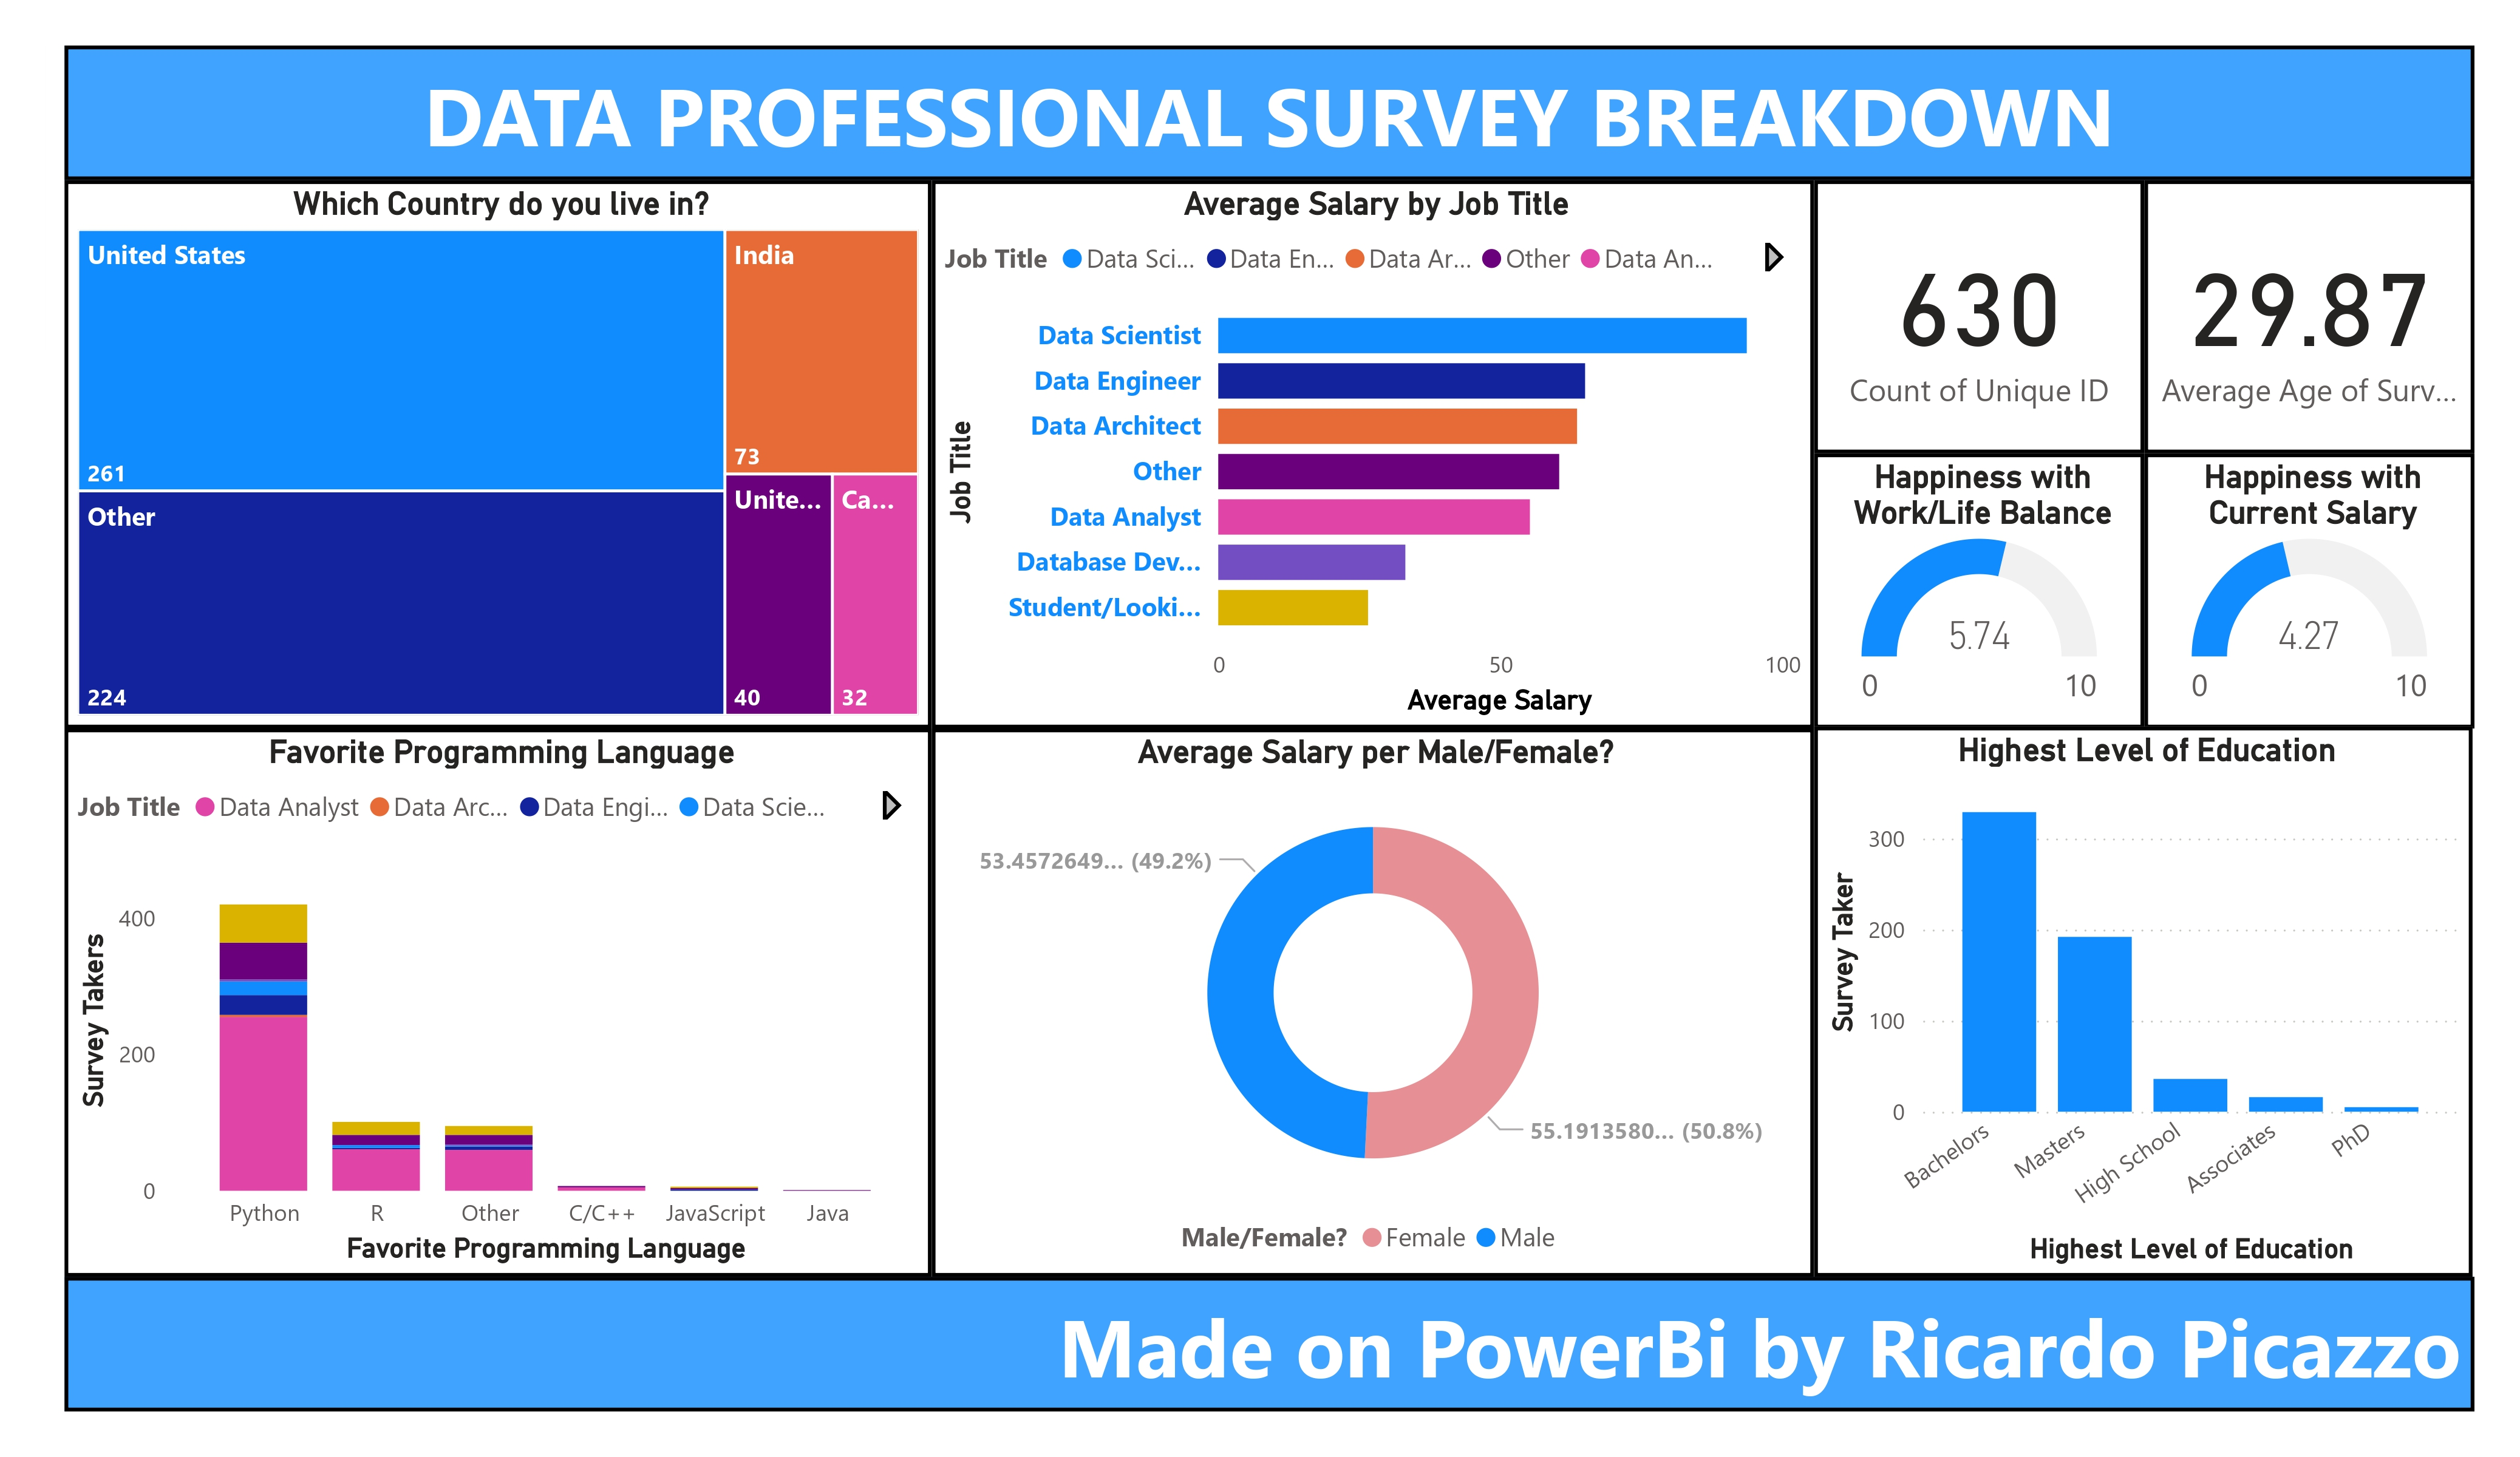

This screenshot's page, from the dashboard's own definition file:
{"tool":"powerbi","page":{"name":"DASHBOARD 1","canvas":[1280,720],"ordinal":0},"visuals":[{"type":"textbox","box":[9.7,0,1270.3,71],"z":0},{"type":"card","fields":{"Values":["Data Professional Survey.Unique ID"]},"box":[932.1,70.9,174.4,144.4],"z":1000},{"type":"card","fields":{"Values":["Data Professional Survey.Q10 - Current Age"]},"box":[1106.5,70.9,173.5,144.4],"z":2000},{"type":"barChart","title":"Average Salary by Job Title","fields":{"Category":["Data Professional Survey.Q1 - Which Title Best Fits your Current Role?.1"],"Y":["Data Professional Survey.Average Salary"],"Series":["Data Professional Survey.Q1 - Which Title Best Fits your Current Role?.1"]},"box":[466.9,70.9,465.1,288.9],"z":3000},{"type":"columnChart","title":"Favorite Programming Language","fields":{"Category":["Data Professional Survey.Q5 - Favorite Programming Language.1"],"Y":["Data Professional Survey.Unique ID"],"Series":["Data Professional Survey.Q1 - Which Title Best Fits your Current Role?.1"]},"box":[10,359.7,456.9,288.9],"z":4000},{"type":"treemap","title":"Which Country do you live in?","fields":{"Group":["Data Professional Survey.Q11 - Which Country do you live in?.1"],"Values":["Data Professional Survey.Q11 - Which Country do you live in?.1"]},"box":[10,70.9,456.9,288.9],"z":5000},{"type":"gauge","title":"Happiness with Work/Life Balance","fields":{"Y":["Data Professional Survey.Q6 - How Happy are you in your Current Position with the following? (Work/Life Balance)"],"MinValue":["Data Professional Survey.Q6 - How Happy are you in your Current Position with the following? (Work/Life Balance)"],"MaxValue":["Sum(Data Professional Survey.Q6 - How Happy are you in your Current Position with the following? (Work/Life Balance))1"]},"box":[932.1,215.3,174.4,144.4],"z":6000},{"type":"gauge","title":"Happiness with Current Salary","fields":{"Y":["Data Professional Survey.Q6 - How Happy are you in your Current Position with the following? (Salary)"],"MinValue":["Data Professional Survey.Q6 - How Happy are you in your Current Position with the following? (Salary)"],"MaxValue":["Sum(Data Professional Survey.Q6 - How Happy are you in your Current Position with the following? (Salary))1"]},"box":[1106.5,215.3,173.5,144.4],"z":7000},{"type":"donutChart","title":"Average Salary per Male/Female?","fields":{"Category":["Data Professional Survey.Q9 - Male/Female?"],"Y":["Data Professional Survey.Average Salary"]},"box":[466.9,359.7,465.1,288.9],"z":8000},{"type":"columnChart","title":"Highest Level of Education","fields":{"Category":["Data Professional Survey.Q12 - Highest Level of Education"],"Y":["Data Professional Survey.Unique ID"]},"box":[932.2,359.1,347.3,290.2],"z":9000},{"type":"textbox","box":[10,649,1270,71],"z":10000}]}

Visuals, with their boxes on the page's 1280x720 design canvas (x1, y1, x2, y2). These are canvas units, not pixel positions in the 2520x1457 screenshot, which may show the page scaled, cropped or inside an application window:
textbox: detection(10, 0, 1280, 71)
card - Data Professional Survey.Unique ID: detection(932, 71, 1106, 215)
card - Data Professional Survey.Q10 - Current Age: detection(1106, 71, 1280, 215)
"Average Salary by Job Title" barChart: detection(467, 71, 932, 360)
"Favorite Programming Language" columnChart: detection(10, 360, 467, 649)
"Which Country do you live in?" treemap: detection(10, 71, 467, 360)
"Happiness with Work/Life Balance" gauge: detection(932, 215, 1106, 360)
"Happiness with Current Salary" gauge: detection(1106, 215, 1280, 360)
"Average Salary per Male/Female?" donutChart: detection(467, 360, 932, 649)
"Highest Level of Education" columnChart: detection(932, 359, 1280, 649)
textbox: detection(10, 649, 1280, 720)
